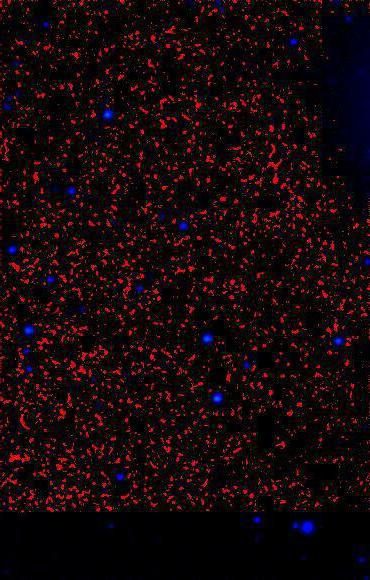star: (97, 93, 127, 123)
